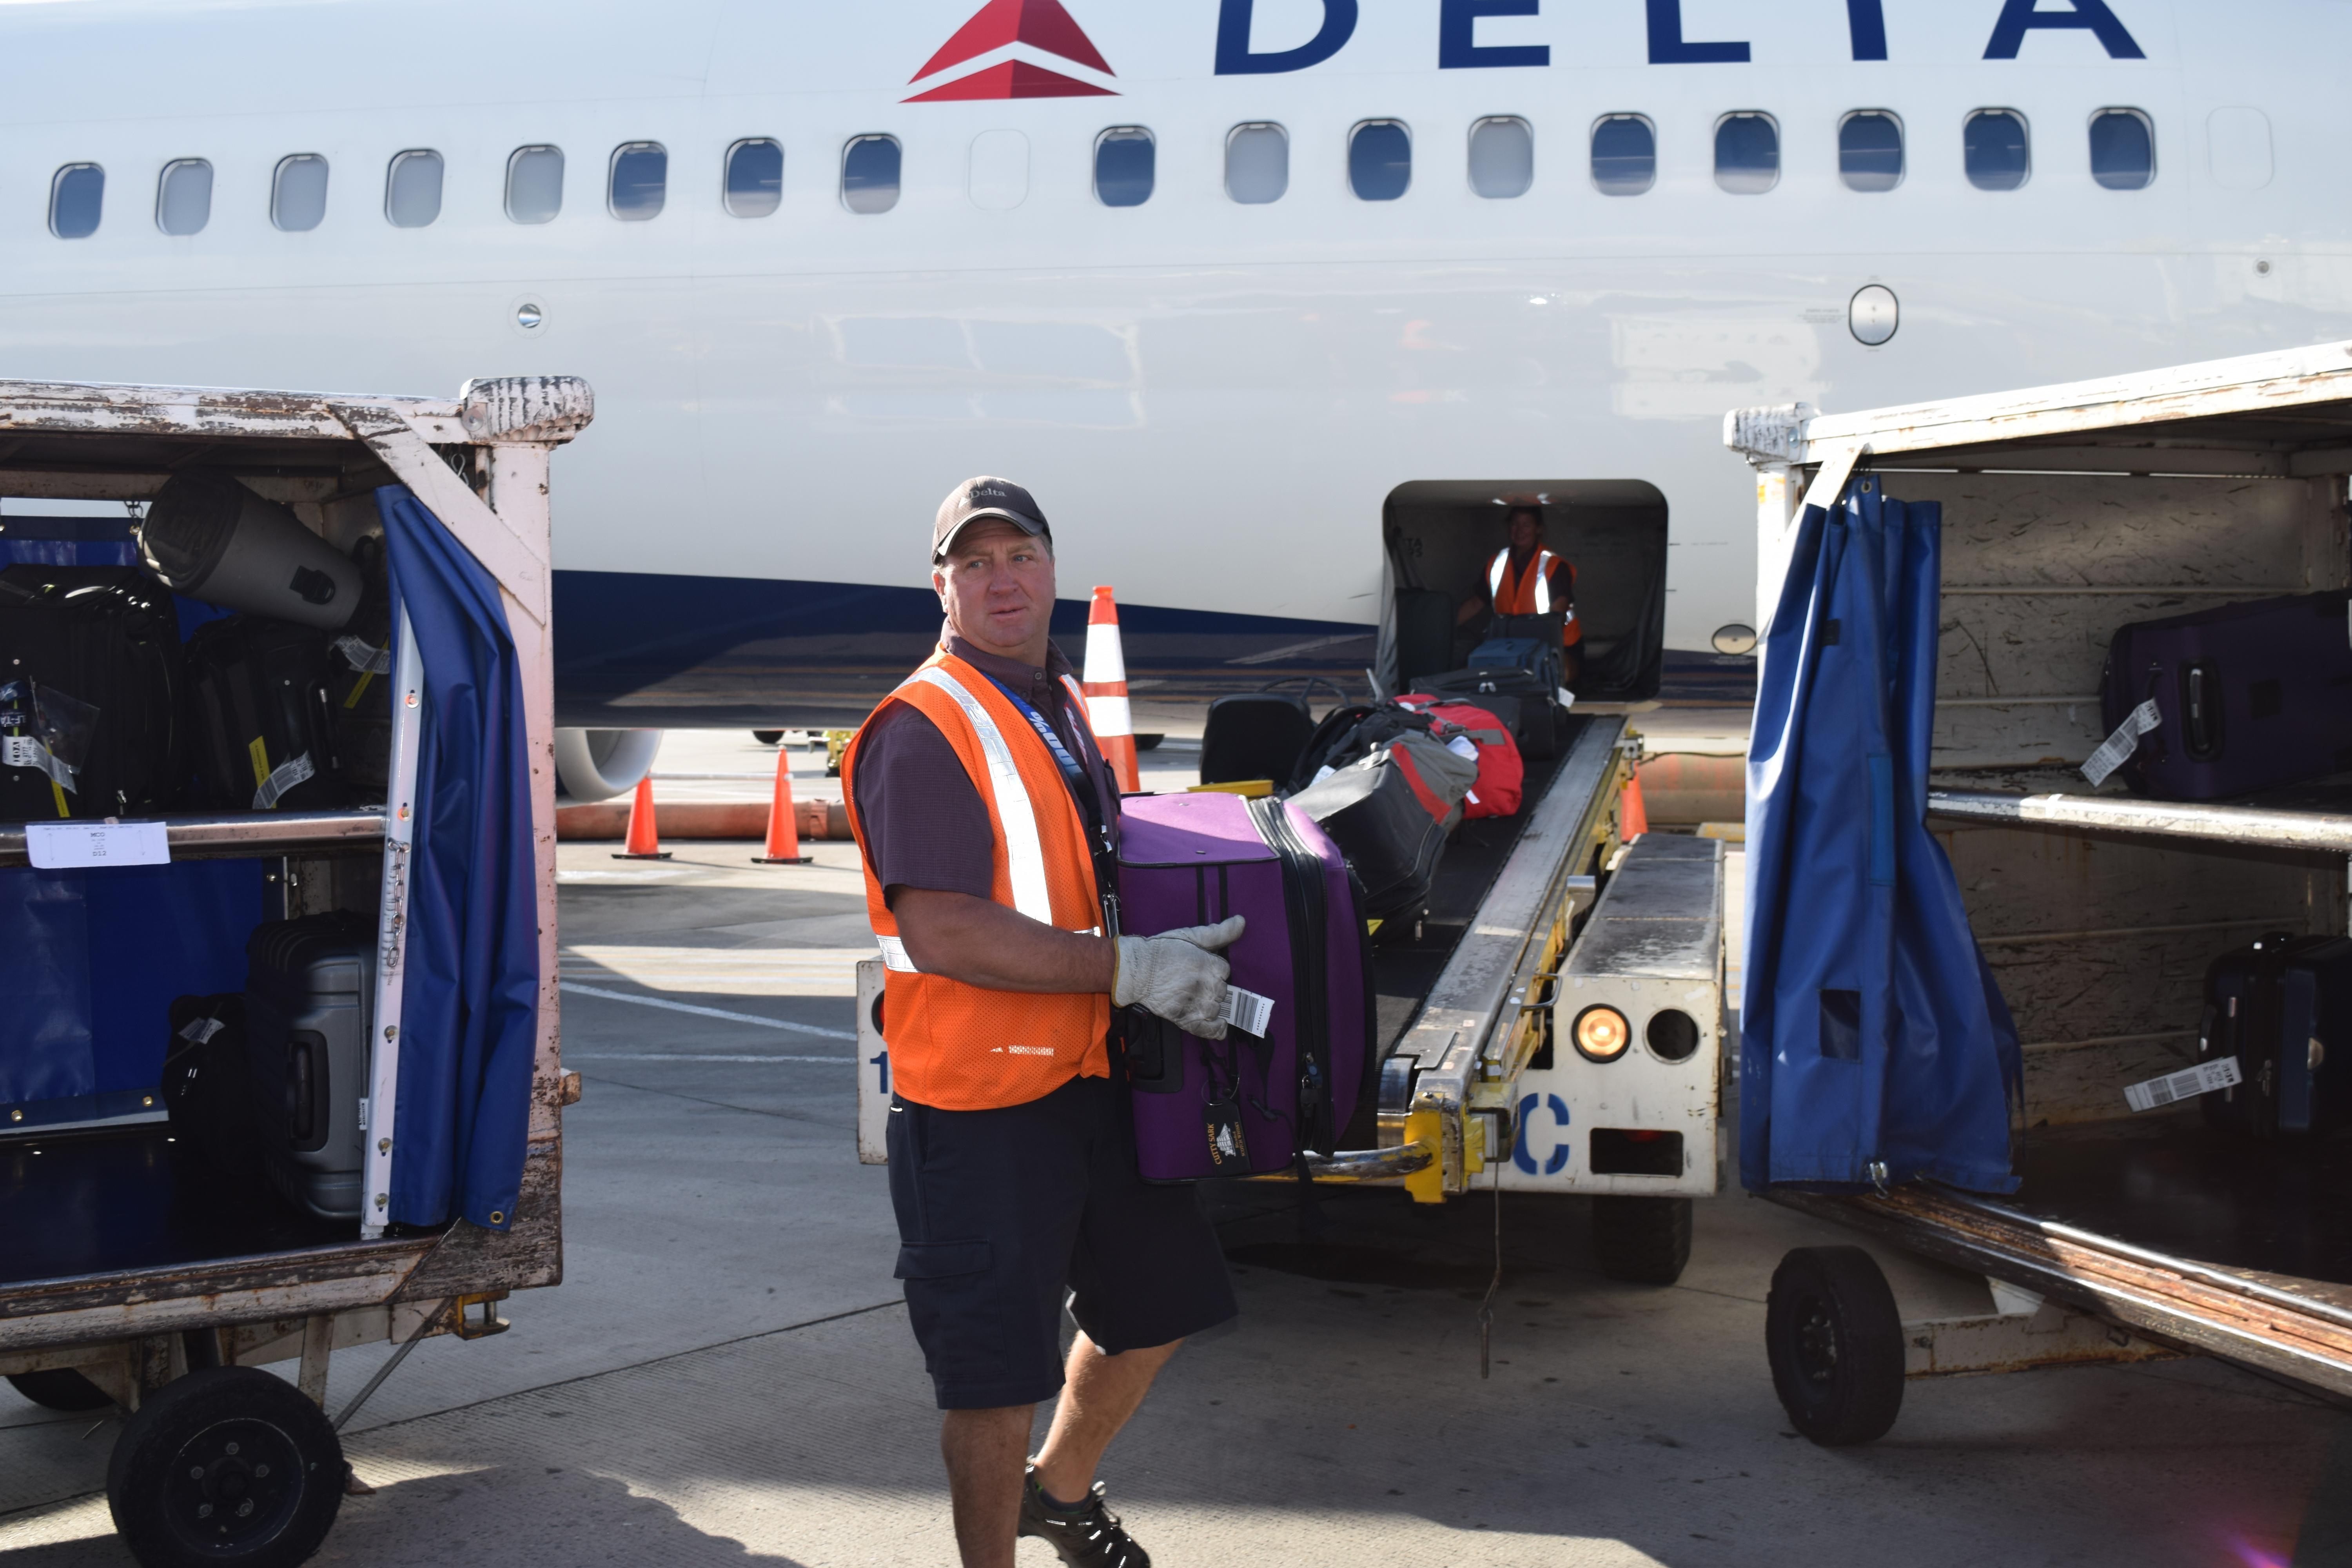vest: (837, 663, 1172, 1108)
